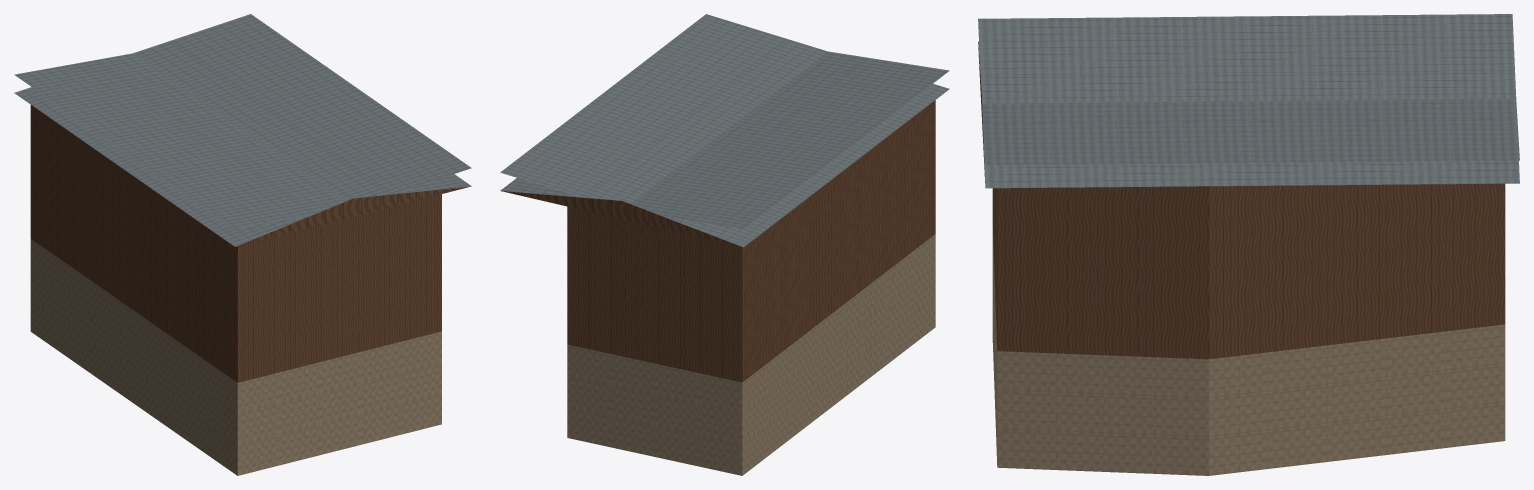
Rendered from bld_c43_34_264.gltf.
3 renders of one model, left to right at view 1: azimuth 30°, elevation 25°; view 2: azimuth 150°, elevation 25°; view 3: azimuth 270°, elevation 25°, orthographic. The views are drawn at different scales.
Visible parts, largest first — view 1: bld_c43_34_264; view 2: bld_c43_34_264; view 3: bld_c43_34_264.
Part boxes in pixels (bbox=[...]): bld_c43_34_264: bbox=[14, 14, 471, 475]; bld_c43_34_264: bbox=[500, 14, 949, 475]; bld_c43_34_264: bbox=[978, 14, 1519, 475].
Bounding box in the file's own units: 14.21 × 13.9 × 21.48.
4 materials, 4 textured.
